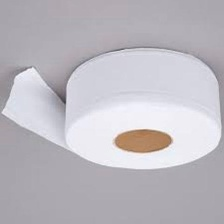tissue: (0, 41, 224, 176)
